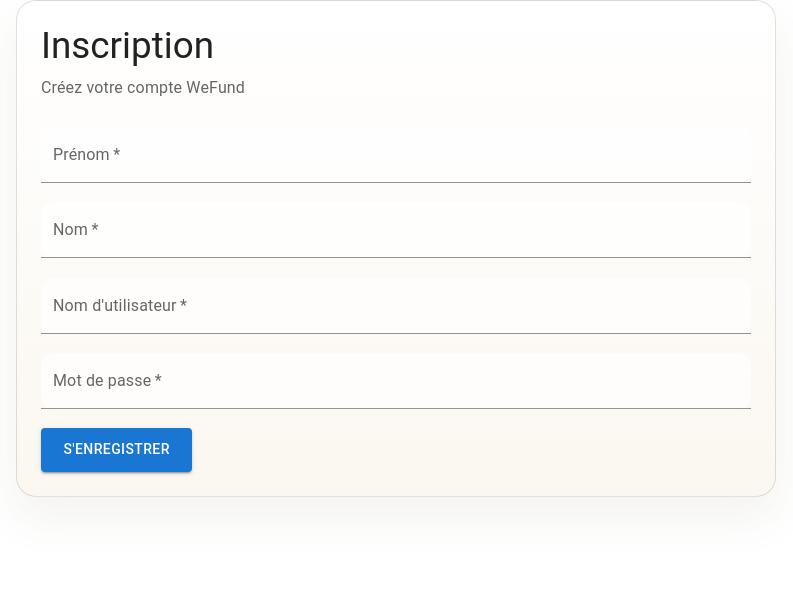
Test: SignupForm › affiche un message de succès après soumission
This screenshot has width=793, height=592.
In the field labelled "Prénom *": {"x": 396, "y": 155} top-left (41, 127), bottom-right (751, 183), type "alice"
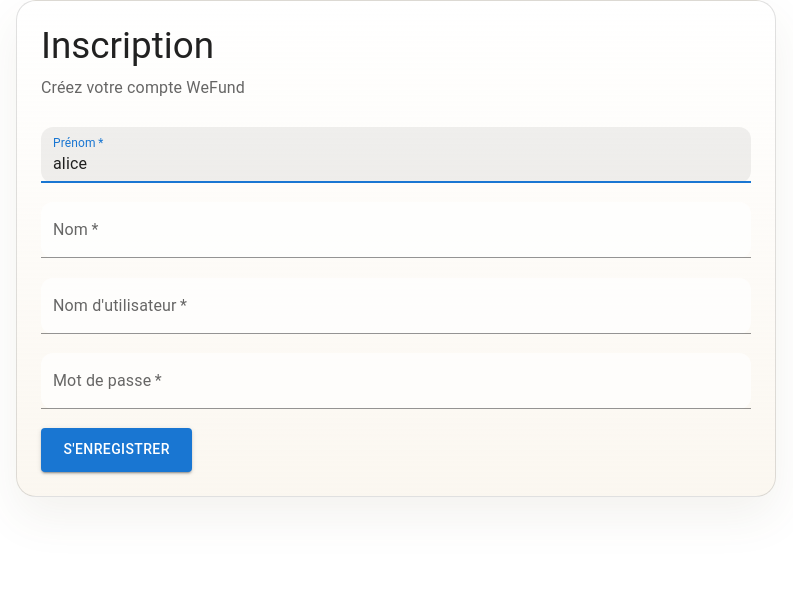
In the field labelled "Nom *": {"x": 396, "y": 230} top-left (41, 202), bottom-right (751, 258), type "duval"
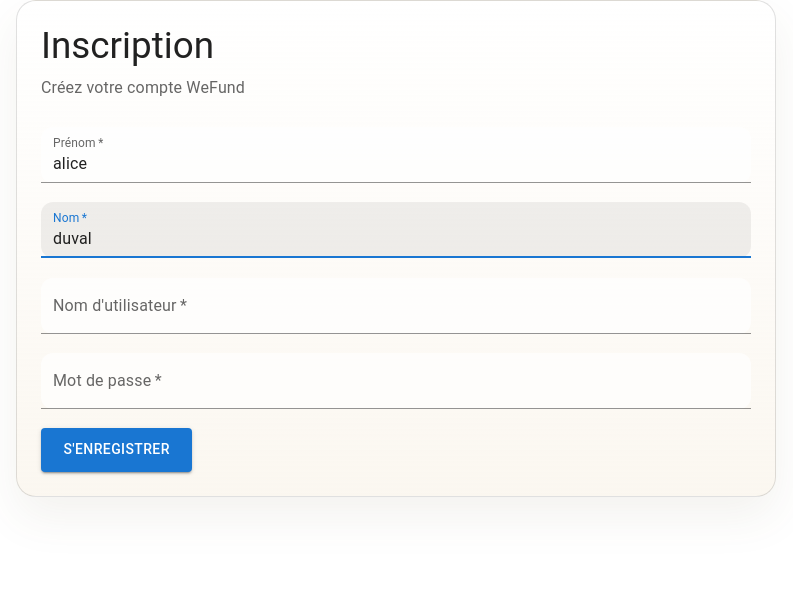
In the field labelled "Nom d'utilisateur *": {"x": 396, "y": 306} top-left (41, 278), bottom-right (751, 334), type "alice"
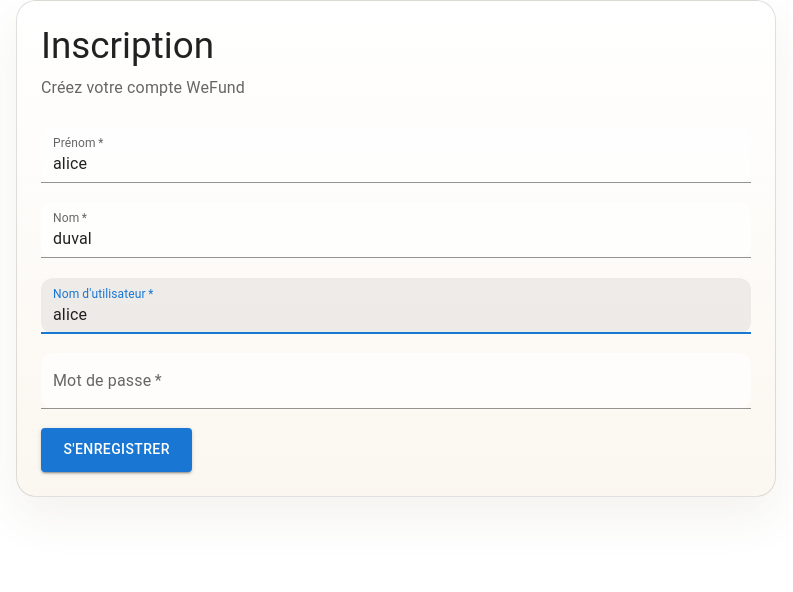
In the password field labelled "Mot de passe *": {"x": 396, "y": 381} top-left (41, 353), bottom-right (751, 409), type "secret"
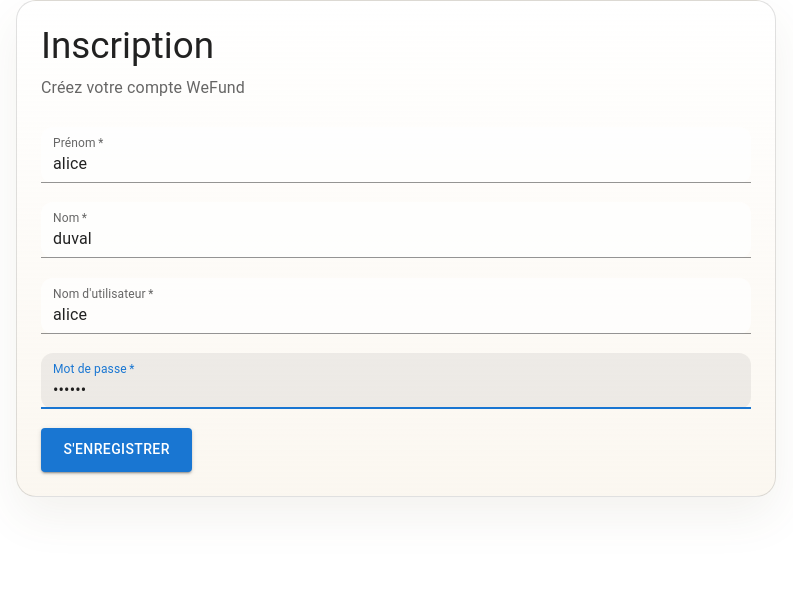
Click the button "S'enregistrer": {"x": 117, "y": 450} top-left (41, 428), bottom-right (192, 472)
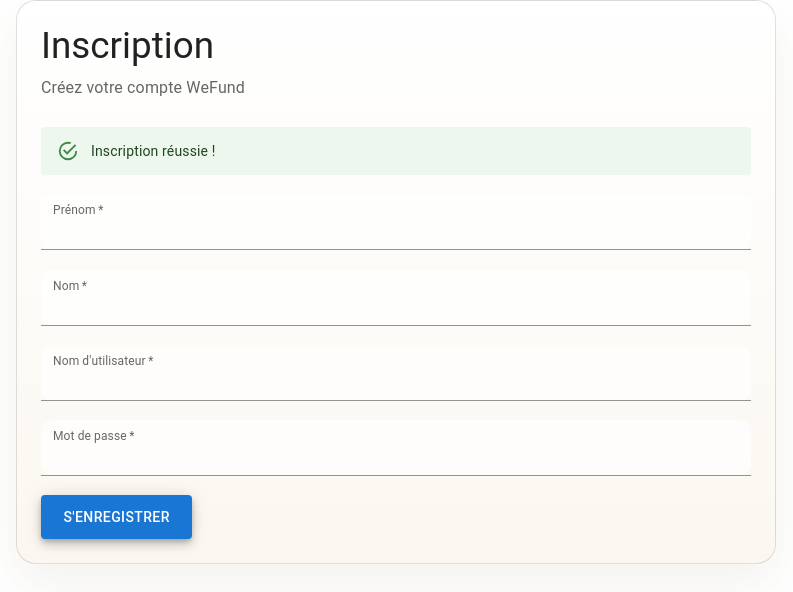
expect the text "Inscription réussie !" is shown: met, box top-left (91, 143), bottom-right (216, 159)
